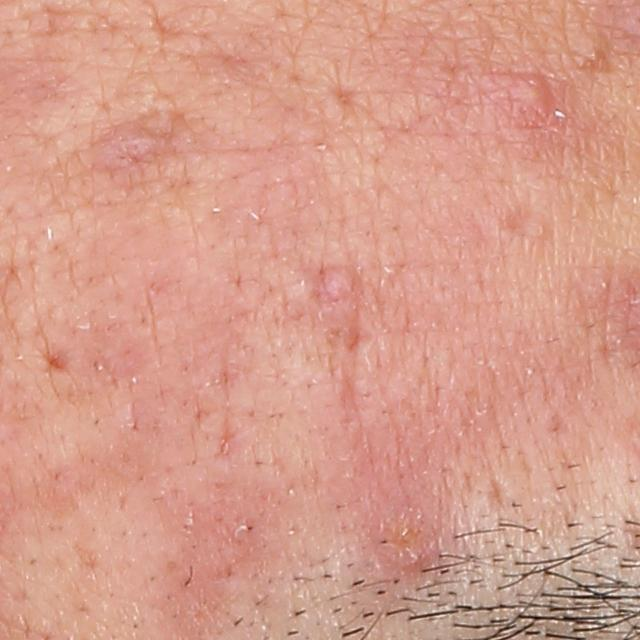atrophic_scar: (486, 471, 509, 515), (331, 81, 359, 107)
comedo: (569, 35, 612, 72)
papule: (491, 70, 566, 156), (367, 500, 435, 568)
